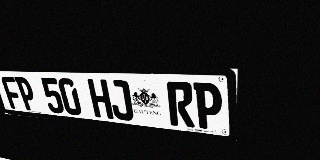0: (57, 78, 83, 116)
5: (40, 78, 66, 114)
F: (0, 76, 24, 110)
H: (87, 79, 114, 119)
J: (107, 80, 134, 121)
P: (193, 82, 222, 130), (14, 77, 39, 111)
R: (166, 82, 195, 128)
